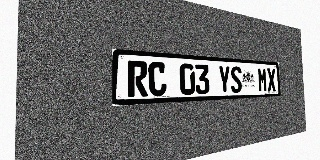0: (179, 63, 195, 95)
3: (195, 64, 210, 94)
C: (148, 61, 167, 96)
M: (257, 67, 267, 92)
R: (128, 60, 148, 97)
S: (230, 66, 242, 93)
X: (267, 68, 276, 92)
Y: (218, 65, 231, 94)
